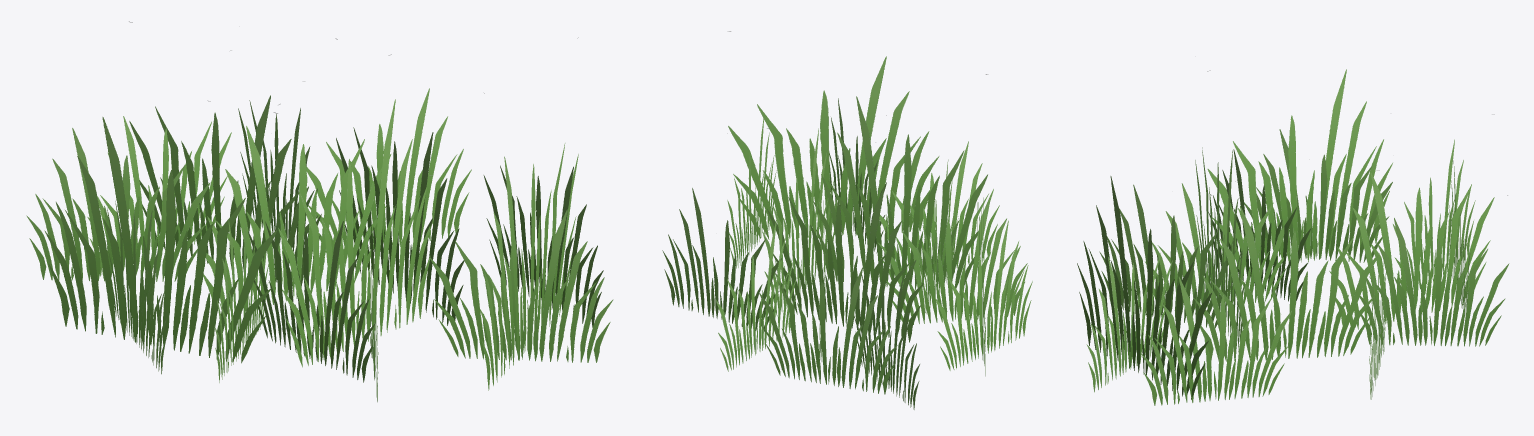
Rendered from Grass001.fbx.
The picture shows the model from 3 angles, left to right: view 1: azimuth 30°, elevation 25°; view 2: azimuth 150°, elevation 25°; view 3: azimuth 270°, elevation 25°; orthographic projection. The views are drawn at different scales.
Visible parts, largest first — view 1: Grass002, Grass015, Grass014, Grass001, Grass007, Grass003, Grass010, Grass016, Grass009, Grass012, Grass013, Grass008 (+4 smaller); view 2: Grass010, Grass015, Grass001, Grass008, Grass006, Grass012, Grass005, Grass004, Grass009, Grass003, Grass011, Grass013 (+3 smaller); view 3: Grass009, Grass002, Grass010, Grass004, Grass007, Grass013, Grass005, Grass011, Grass016, Grass014, Grass015, Grass006 (+3 smaller).
Boxes of the visible parts, <box> form: Grass002: <box>44,112,277,363</box>; Grass015: <box>278,99,433,367</box>; Grass014: <box>429,175,613,362</box>; Grass001: <box>198,54,391,311</box>; Grass007: <box>129,21,317,286</box>; Grass003: <box>26,100,210,281</box>; Grass010: <box>479,37,578,390</box>; Grass016: <box>248,149,374,382</box>; Grass009: <box>335,38,464,325</box>; Grass012: <box>302,81,471,252</box>; Grass013: <box>483,93,603,327</box>; Grass008: <box>87,50,231,276</box>; Grass010: <box>727,31,939,239</box>; Grass015: <box>813,74,988,293</box>; Grass001: <box>767,128,923,342</box>; Grass008: <box>759,225,897,394</box>; Grass006: <box>881,194,1027,324</box>; Grass012: <box>662,188,781,331</box>; Grass005: <box>935,220,1032,370</box>; Grass004: <box>716,218,796,371</box>; Grass009: <box>762,128,837,316</box>; Grass003: <box>851,274,919,409</box>; Grass011: <box>875,141,999,282</box>; Grass013: <box>727,118,776,268</box>; Grass009: <box>1193,170,1379,361</box>; Grass002: <box>1207,69,1392,273</box>; Grass010: <box>1077,176,1211,399</box>; Grass004: <box>1358,195,1509,346</box>; Grass007: <box>1329,114,1494,329</box>; Grass013: <box>1141,242,1291,405</box>; Grass005: <box>1244,129,1392,262</box>; Grass011: <box>1099,181,1235,328</box>; Grass016: <box>1145,146,1292,309</box>; Grass014: <box>1086,253,1172,392</box>; Grass015: <box>1195,147,1245,351</box>; Grass006: <box>1208,149,1310,301</box>.
Bounding box in the file's own units: 40.04 × 24.51 × 41.98.
